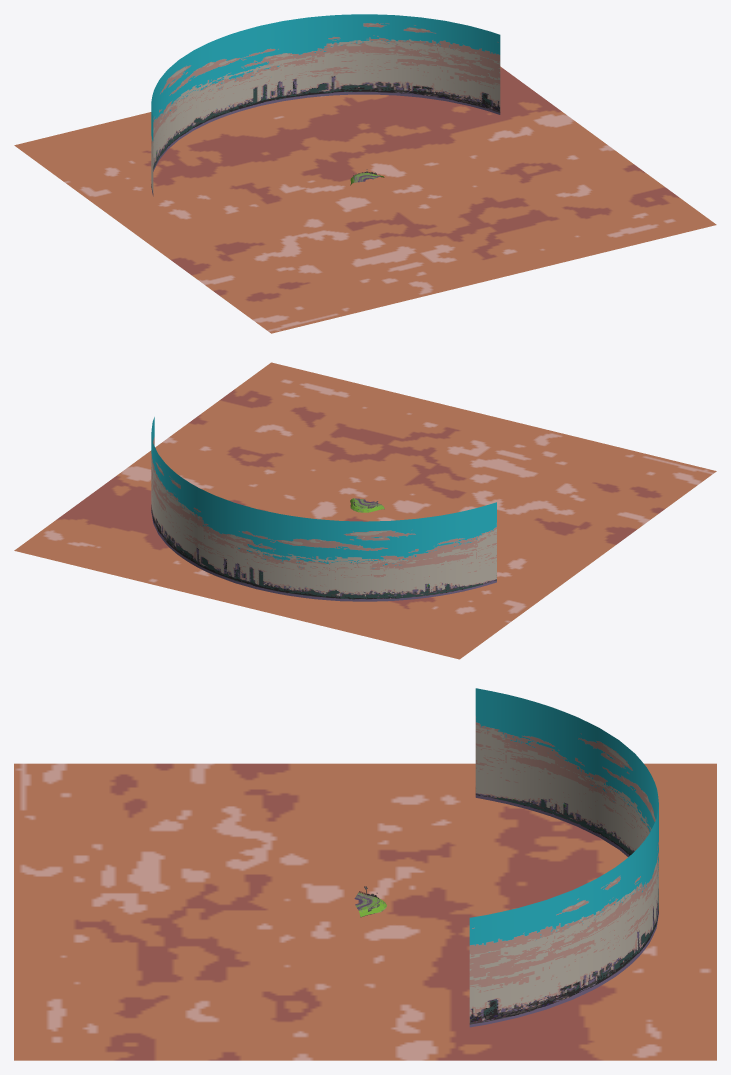
Rendered from parananana.obj.
3 renders of one model, top to bottom at view 1: azimuth 30°, elevation 25°; view 2: azimuth 150°, elevation 25°; view 3: azimuth 270°, elevation 25°, orthographic. The views are drawn at different scales.
Visible parts, largest first — view 1: Plane.003, Grid.001; view 2: Plane.003, Grid.001; view 3: Plane.003, Grid.001.
Boxes of the visible parts, box(x1,y1,x2,y2) form: Plane.003: box(14, 66, 716, 333); Grid.001: box(151, 14, 500, 196); Plane.003: box(14, 362, 716, 659); Grid.001: box(151, 417, 496, 601); Plane.003: box(14, 763, 716, 1060); Grid.001: box(469, 688, 658, 1027).
Size of the model in its own units: 302 by 55.73 by 302.
